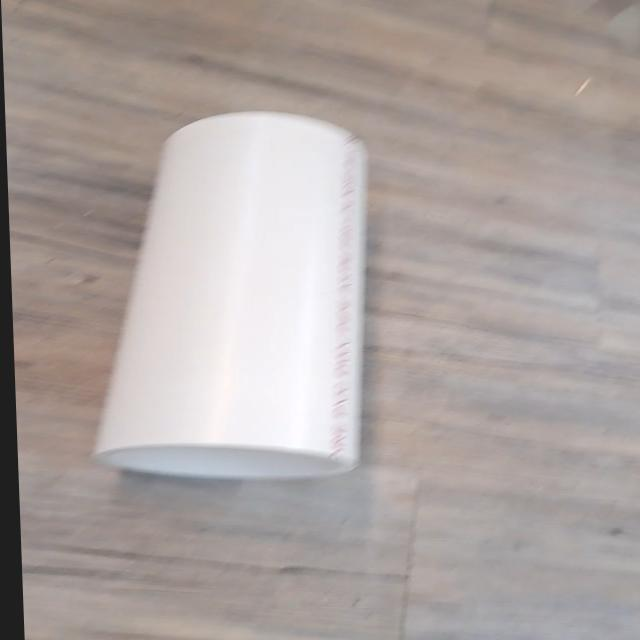CORAL: (61, 106, 396, 486)
